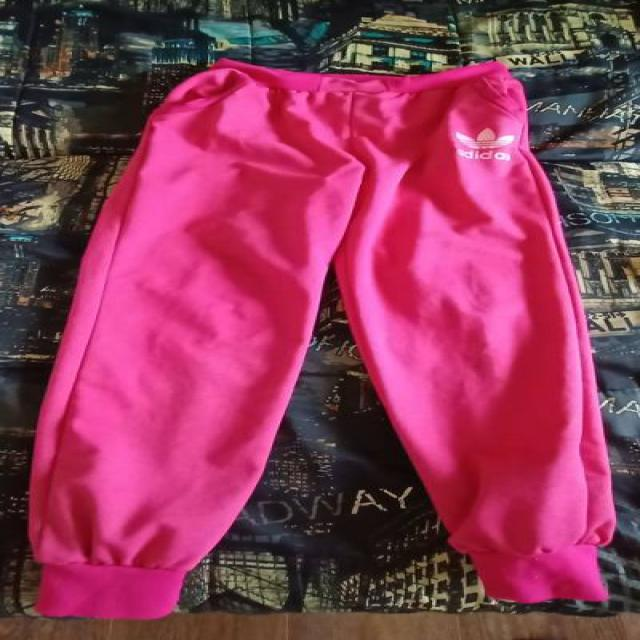Clothes -Biodegradable-: (28, 61, 609, 618)
